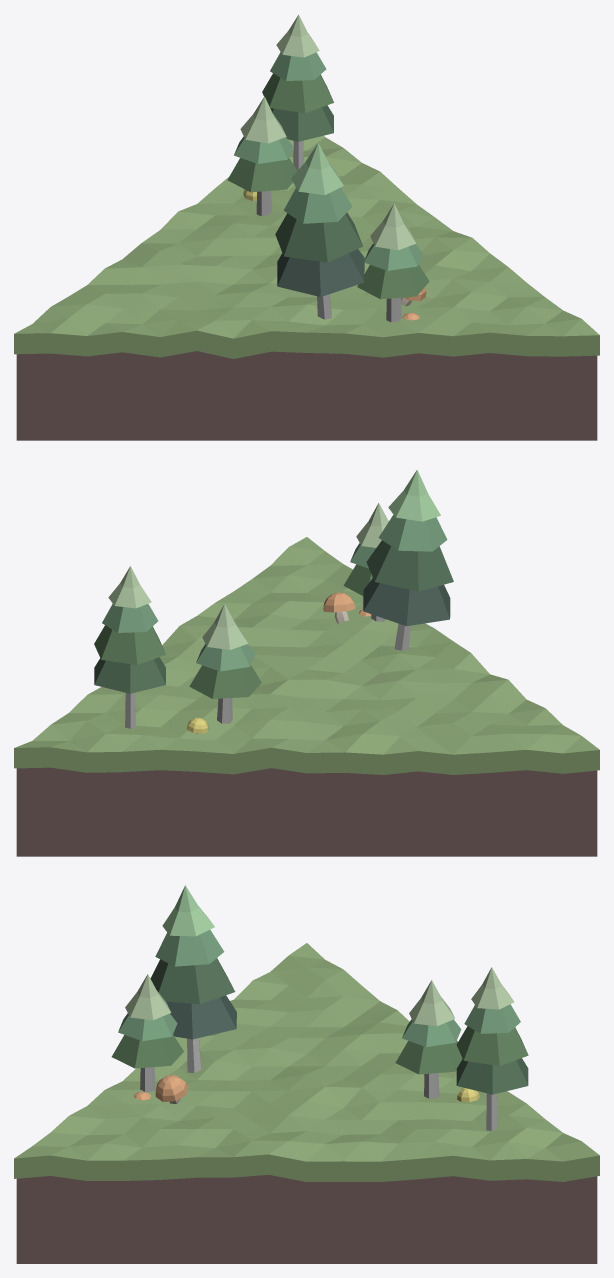
File: TILE_01_04_Forest.fbx
3 renders of one model, top to bottom at view 1: azimuth 30°, elevation 25°; view 2: azimuth 150°, elevation 25°; view 3: azimuth 270°, elevation 25°, orthographic.
Visible parts, largest first — view 1: TILESURFACE7, TILE, pCylinder8 2, pCylinder7 2, pCylinder8, pCylinder7 3, pCylinder7 1, pCylinder9 1, pCylinder7, pCylinder10 2, pCylinder9, pCylinder10 1 (+4 smaller); view 2: TILESURFACE7, TILE, pCylinder7 2, pCylinder8 2, pCylinder7, pCylinder8, pCylinder9 1, pCylinder7 1, pCylinder10 2, pCylinder9, pCylinder8 1, pCylinder10 1 (+4 smaller); view 3: TILESURFACE7, TILE, pCylinder8 2, pCylinder7 2, pCylinder7, pCylinder8, pCylinder9 1, pCylinder7 3, pCylinder7 1, pCylinder10 2, pCylinder9, pCylinder10 3 (+5 smaller).
Part boxes in pixels (bbox=[...]): TILESURFACE7: bbox=[14, 135, 599, 358]; TILE: bbox=[16, 351, 597, 440]; pCylinder8 2: bbox=[275, 212, 362, 262]; pCylinder7 2: bbox=[277, 249, 364, 296]; pCylinder8: bbox=[262, 73, 333, 113]; pCylinder7 3: bbox=[357, 264, 429, 299]; pCylinder7 1: bbox=[227, 157, 297, 192]; pCylinder9 1: bbox=[283, 187, 352, 223]; pCylinder7: bbox=[270, 105, 333, 141]; pCylinder10 2: bbox=[291, 142, 343, 195]; pCylinder9: bbox=[270, 52, 326, 80]; pCylinder10 1: bbox=[240, 96, 286, 143]; TILESURFACE7: bbox=[14, 537, 599, 774]; TILE: bbox=[16, 767, 597, 856]; pCylinder7 2: bbox=[363, 578, 450, 626]; pCylinder8 2: bbox=[366, 540, 453, 591]; pCylinder7: bbox=[94, 657, 165, 693]; pCylinder8: bbox=[94, 625, 165, 664]; pCylinder9 1: bbox=[378, 515, 447, 551]; pCylinder7 1: bbox=[189, 665, 261, 698]; pCylinder10 2: bbox=[388, 470, 440, 521]; pCylinder9: bbox=[102, 604, 158, 632]; pCylinder8 1: bbox=[196, 644, 255, 671]; pCylinder10 1: bbox=[202, 603, 248, 649]; TILESURFACE7: bbox=[14, 943, 599, 1181]; TILE: bbox=[16, 1175, 597, 1263]; pCylinder8 2: bbox=[150, 958, 235, 1004]; pCylinder7 2: bbox=[165, 995, 236, 1039]; pCylinder7: bbox=[456, 1058, 528, 1094]; pCylinder8: bbox=[456, 1026, 528, 1065]; pCylinder9 1: bbox=[155, 930, 224, 966]; pCylinder7 3: bbox=[111, 1034, 183, 1068]; pCylinder7 1: bbox=[395, 1041, 462, 1074]; pCylinder10 2: bbox=[162, 885, 214, 936]; pCylinder9: bbox=[464, 1004, 520, 1033]; pCylinder10 3: bbox=[125, 974, 171, 1020].
Size of the model in its own units: 151 by 93.45 by 175.
